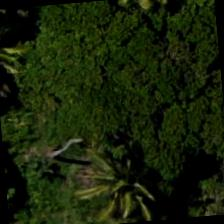Kelapa_Sawit: (70, 135, 168, 223)
